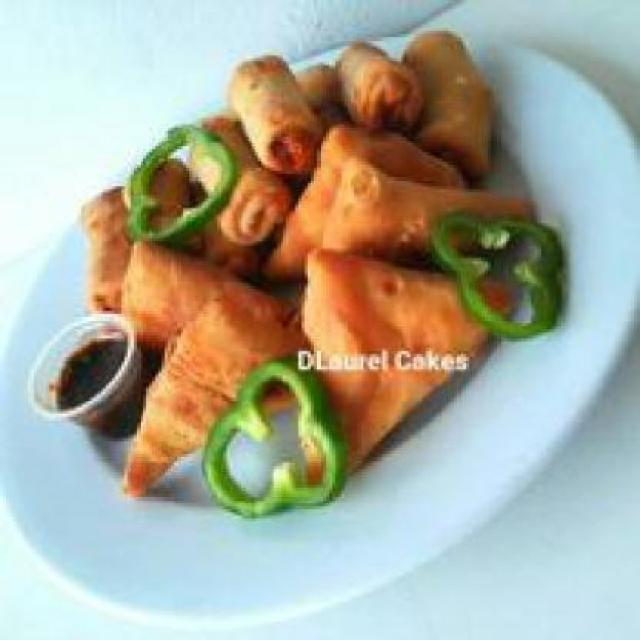samosa: (114, 202, 488, 506)
spring rolls: (205, 16, 503, 190)
